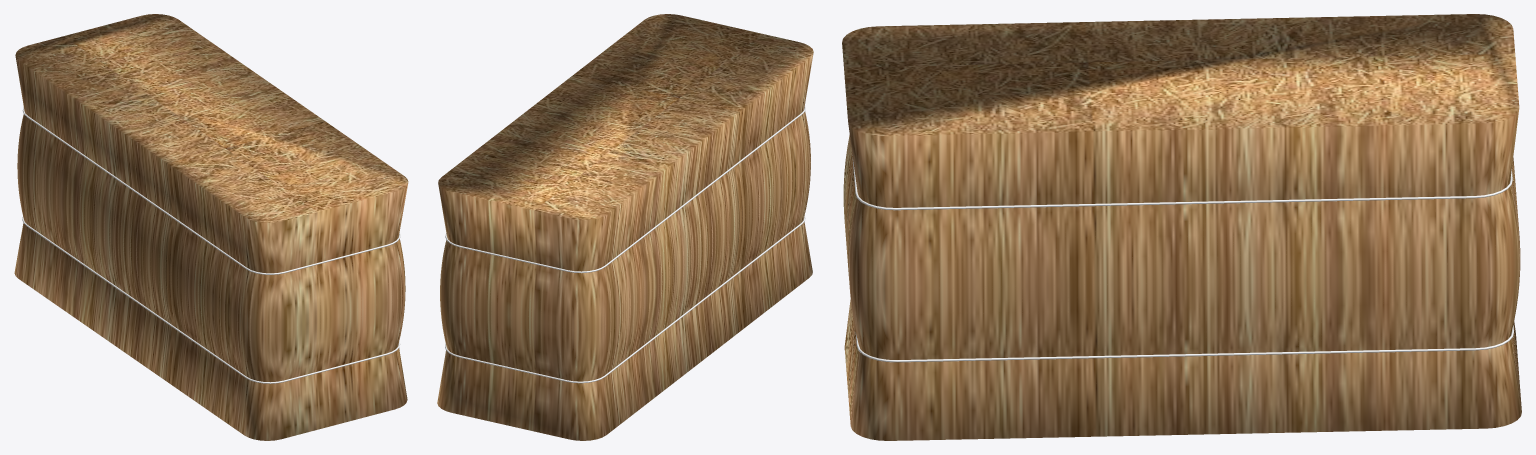
File: hay.fbx
The picture shows the model from 3 angles, left to right: view 1: azimuth 30°, elevation 25°; view 2: azimuth 150°, elevation 25°; view 3: azimuth 270°, elevation 25°; orthographic projection. The views are drawn at different scales.
Visible parts, largest first — view 1: Model; view 2: Model; view 3: Model.
Boxes of the visible parts, x1=… form: Model: x1=14, y1=14, x2=408, y2=440; Model: x1=437, y1=14, x2=813, y2=440; Model: x1=842, y1=14, x2=1521, y2=440.
Bounding box in the file's own units: 15.03 × 18.28 × 36.44.
